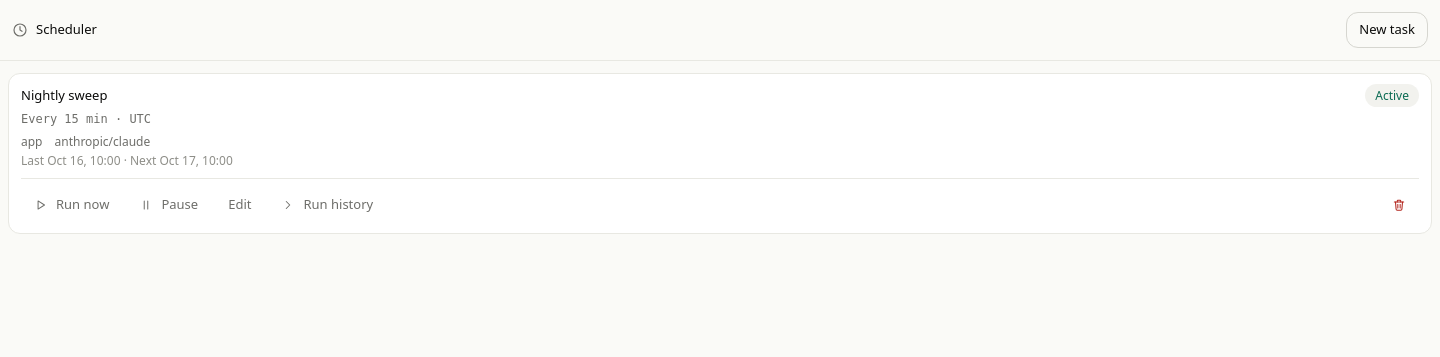
Test case: SchedulerPanel › keeps run history unfetched until a task is expanded, then lists its runs
Expected: the text "Nightly sweep" is shown, top-left (21, 86), bottom-right (107, 104)
Click the button "Run history" at point(327, 205), box top-left (268, 187), bottom-right (386, 223)
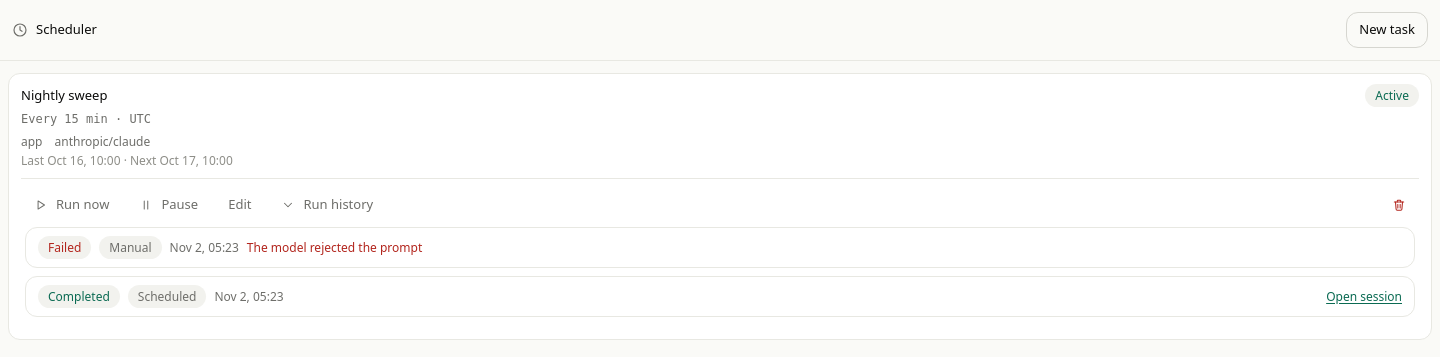
Result: the text "Failed" is shown at top-left (38, 236), bottom-right (91, 259)
Result: the text "The model rejected the prompt" is shown at top-left (247, 239), bottom-right (422, 256)
Result: the text "Manual" is shown at top-left (99, 236), bottom-right (162, 259)
